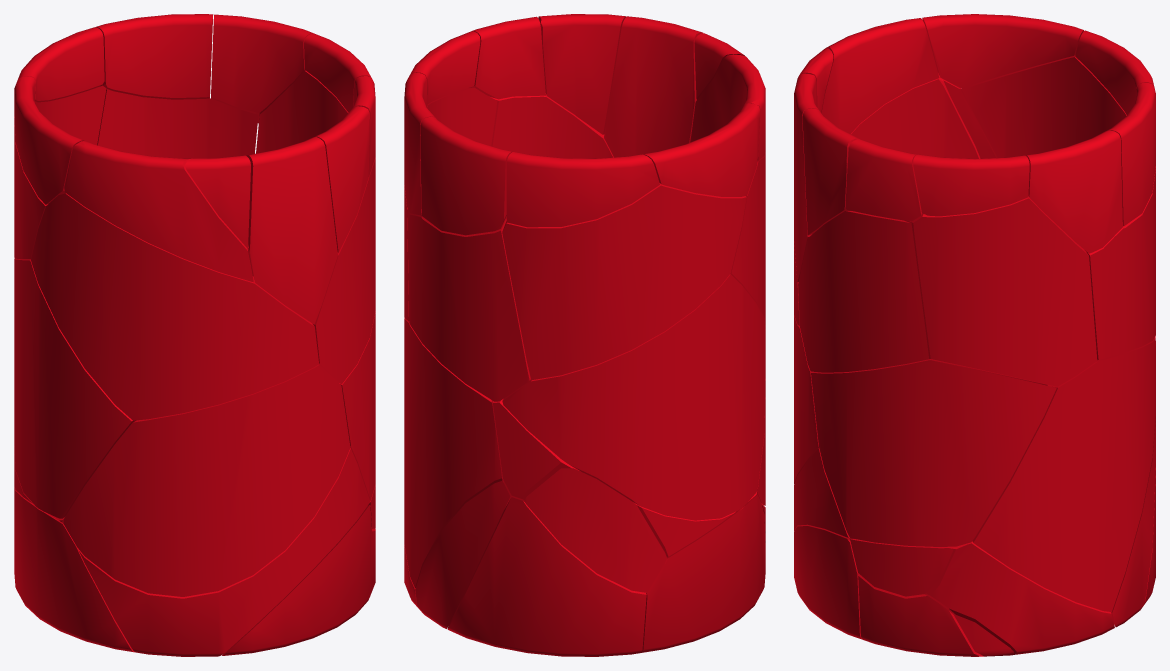
Rendered from barrel_01_fractured.glb.
3 views of the same model, side by side, from view 1: azimuth 30°, elevation 25°; view 2: azimuth 150°, elevation 25°; view 3: azimuth 270°, elevation 25° (orthographic).
Parts seen in each view (by area): view 1: barrel_01_cell.030-rigid, barrel_01_cell.031-rigid, barrel_01_cell.022-rigid, barrel_01_cell.032-rigid, barrel_01_cell.029-rigid, barrel_01_cell.026-rigid, barrel_01_cell.040-rigid, barrel_01_cell.042-rigid, barrel_01_cell.003-rigid, barrel_01_cell.024-rigid, barrel_01_cell.007-rigid, barrel_01_cell.023-rigid (+9 smaller); view 2: barrel_01_cell.022-rigid, barrel_01_cell.037-rigid, barrel_01_cell.046-rigid, barrel_01_cell.042-rigid, barrel_01_cell.002-rigid, barrel_01_cell.040-rigid, barrel_01_cell.026-rigid, barrel_01_cell.041-rigid, barrel_01_cell.043-rigid, barrel_01_cell.003-rigid, barrel_01_cell.021-rigid, barrel_01_cell.004-rigid (+10 smaller); view 3: barrel_01_cell.020-rigid, barrel_01_cell.002-rigid, barrel_01_cell.035-rigid, barrel_01_cell.023-rigid, barrel_01_cell.037-rigid, barrel_01_cell.010-rigid, barrel_01_cell.029-rigid, barrel_01_cell.007-rigid, barrel_01_cell.039-rigid, barrel_01_cell.042-rigid, barrel_01_cell.031-rigid, barrel_01_cell.014-rigid (+14 smaller).
Part boxes in pixels (box(x1,y1,x2,y2)): barrel_01_cell.030-rigid: box(63, 364, 350, 596); barrel_01_cell.031-rigid: box(31, 193, 318, 420); barrel_01_cell.022-rigid: box(14, 258, 136, 518); barrel_01_cell.032-rigid: box(78, 448, 369, 656); barrel_01_cell.029-rigid: box(64, 141, 253, 282); barrel_01_cell.026-rigid: box(246, 137, 337, 324); barrel_01_cell.040-rigid: box(14, 487, 134, 652); barrel_01_cell.042-rigid: box(97, 89, 258, 158); barrel_01_cell.003-rigid: box(95, 14, 213, 99); barrel_01_cell.024-rigid: box(222, 505, 372, 655); barrel_01_cell.007-rigid: box(211, 14, 313, 123); barrel_01_cell.023-rigid: box(313, 157, 375, 384); barrel_01_cell.022-rigid: box(502, 274, 765, 520); barrel_01_cell.037-rigid: box(502, 183, 746, 380); barrel_01_cell.046-rigid: box(447, 497, 646, 656); barrel_01_cell.042-rigid: box(407, 209, 530, 401); barrel_01_cell.002-rigid: box(404, 318, 503, 587); barrel_01_cell.040-rigid: box(641, 494, 765, 652); barrel_01_cell.026-rigid: box(604, 16, 702, 157); barrel_01_cell.041-rigid: box(524, 468, 666, 592); barrel_01_cell.043-rigid: box(506, 152, 659, 227); barrel_01_cell.003-rigid: box(420, 116, 513, 235); barrel_01_cell.021-rigid: box(538, 14, 626, 134); barrel_01_cell.004-rigid: box(415, 480, 510, 628); barrel_01_cell.020-rigid: box(811, 359, 1056, 546); barrel_01_cell.002-rigid: box(972, 338, 1155, 611); barrel_01_cell.035-rigid: box(905, 196, 1097, 386); barrel_01_cell.023-rigid: box(798, 211, 928, 372); barrel_01_cell.037-rigid: box(960, 55, 1126, 157); barrel_01_cell.010-rigid: box(924, 541, 1114, 654); barrel_01_cell.029-rigid: box(821, 18, 939, 133); barrel_01_cell.007-rigid: box(1025, 130, 1122, 253); barrel_01_cell.039-rigid: box(922, 14, 1083, 87); barrel_01_cell.042-rigid: box(1085, 166, 1155, 359); barrel_01_cell.031-rigid: box(794, 73, 980, 326); barrel_01_cell.014-rigid: box(913, 154, 1029, 216).
Size of the model in its own units: 0.58 by 0.875 by 0.58.
